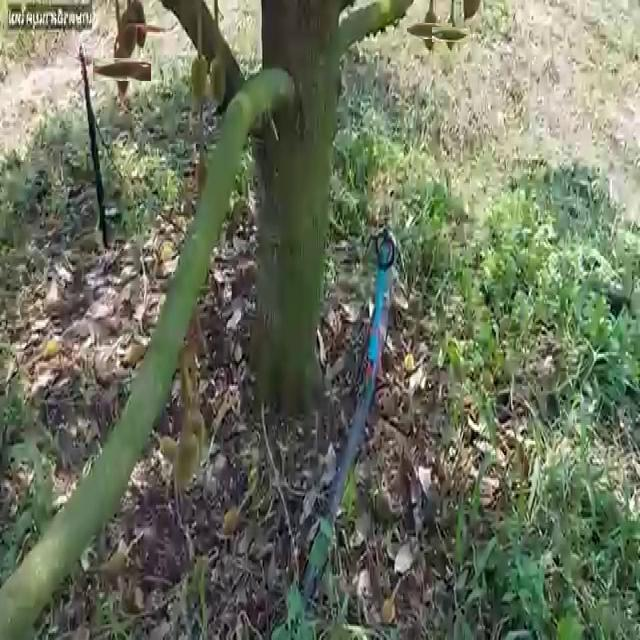durian: (102, 48, 142, 90), (125, 0, 150, 52), (208, 51, 228, 110), (189, 50, 209, 105), (414, 16, 446, 46), (438, 21, 465, 48)
